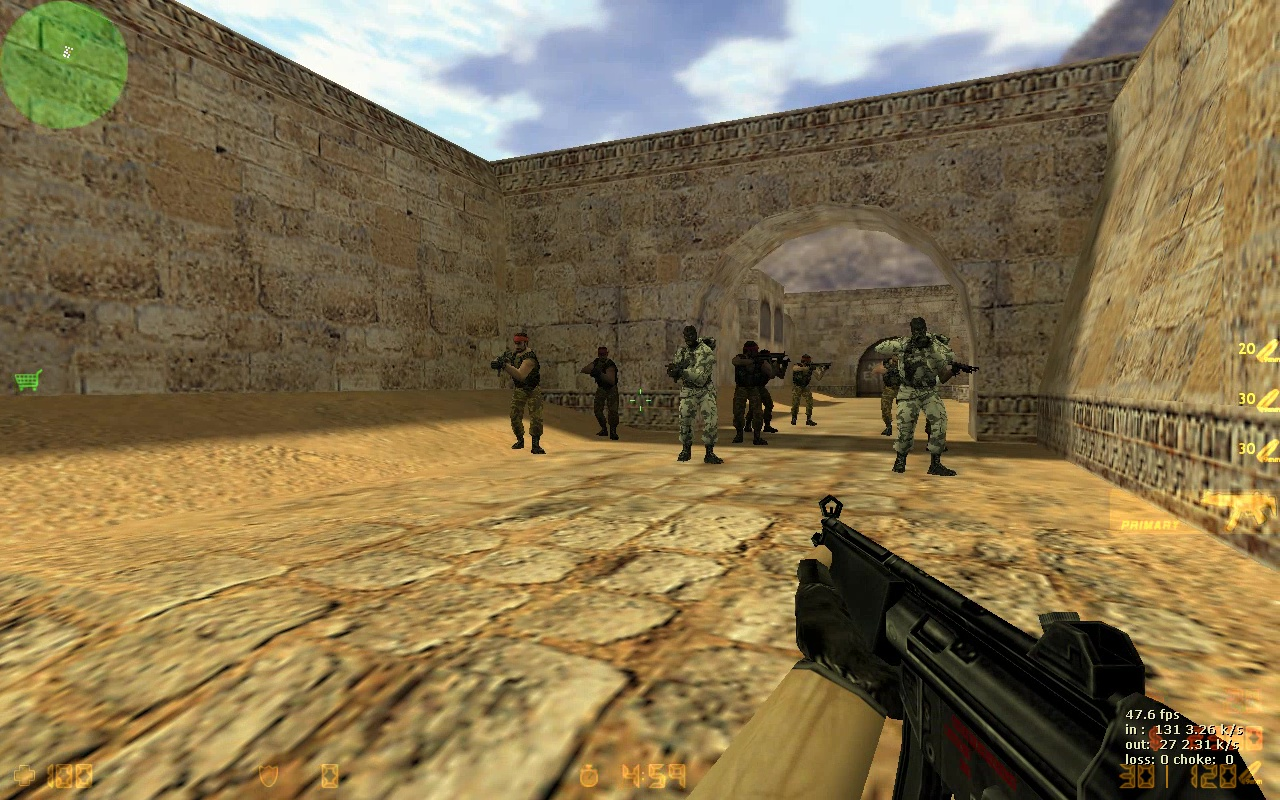terr1: (494, 334, 549, 461), (730, 342, 774, 443), (587, 349, 624, 439), (794, 356, 820, 427)
terr2: (881, 317, 958, 476), (670, 328, 724, 466)
